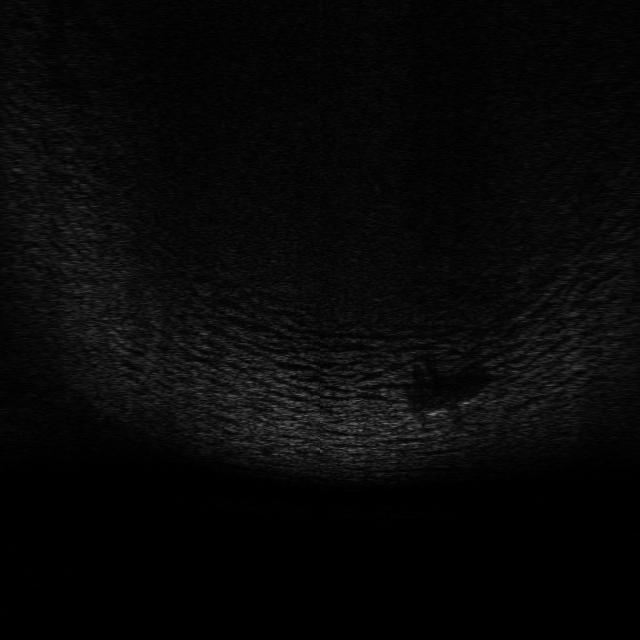plane: (406, 389, 488, 424)
